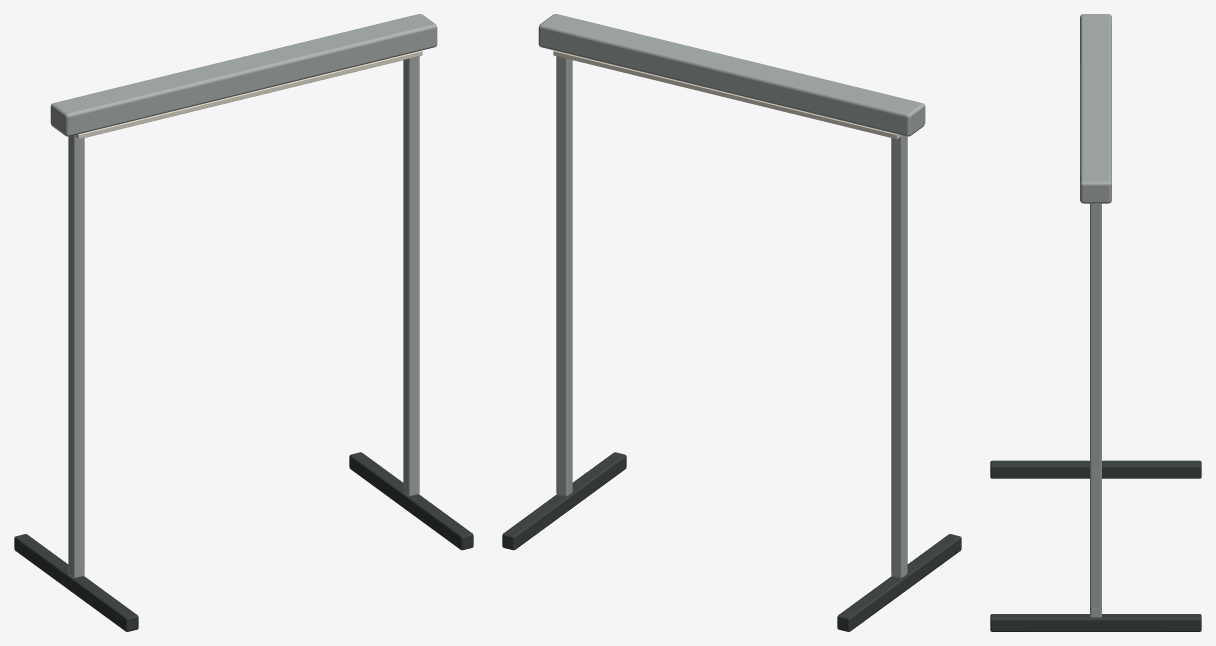
The model's file is museum-conservation-and-art-restoration-museum-conserv-a142c1ee__31887.glb.
3 views of the same model, side by side, from view 1: azimuth 30°, elevation 25°; view 2: azimuth 150°, elevation 25°; view 3: azimuth 270°, elevation 25° (orthographic). The views are drawn at different scales.
Parts seen in each view (by area): view 1: museum-conservation-and-art-restoration-crossbar-examination (×3); view 2: museum-conservation-and-art-restoration-crossbar-examination (×3); view 3: museum-conservation-and-art-restoration-crossbar-examination (×2).
Boxes of the visible parts, <box> form: museum-conservation-and-art-restoration-crossbar-examination (×3): <box>14,14,473,631</box>; museum-conservation-and-art-restoration-crossbar-examination (×3): <box>502,14,961,631</box>; museum-conservation-and-art-restoration-crossbar-examination (×2): <box>990,14,1201,631</box>.
Bounding box in the file's own units: 2 × 2.5 × 1.05.
